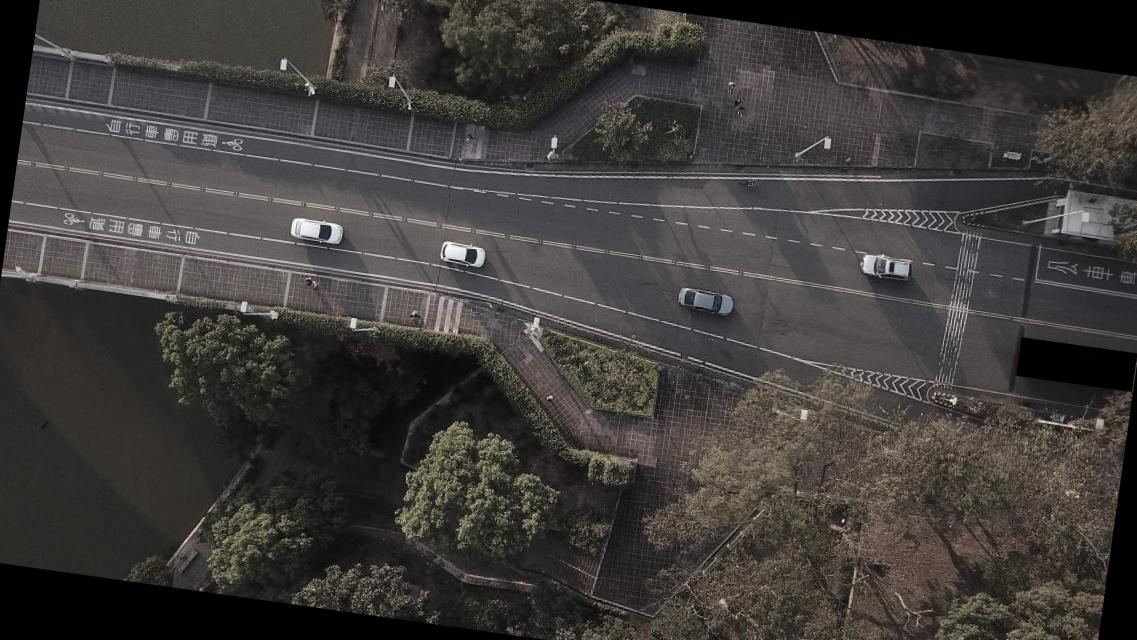vehicle: (676, 285, 736, 318), (858, 251, 914, 284), (290, 216, 344, 247), (438, 240, 486, 270)
